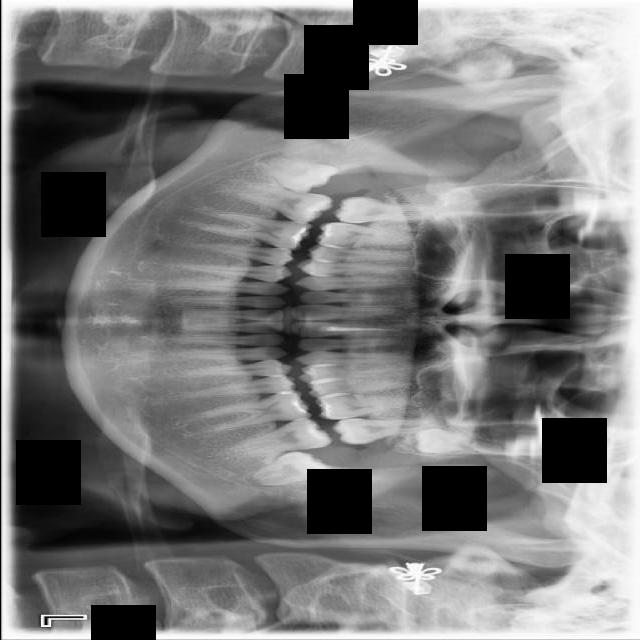52: (259, 210, 313, 257), (262, 384, 313, 431), (314, 220, 365, 251), (290, 321, 332, 338)
73: (331, 322, 410, 341), (69, 558, 82, 561)
BioHorizons Implant: (330, 418, 444, 445)
BioLife Implant: (413, 427, 470, 455)
Biomet 3i Implant: (246, 445, 334, 491)
Blue Sky Bio Implant: (224, 414, 333, 459)
Caries: (332, 194, 438, 224)
Implant: (231, 181, 335, 228)
Keystone Dental Implant: (256, 154, 340, 199)
